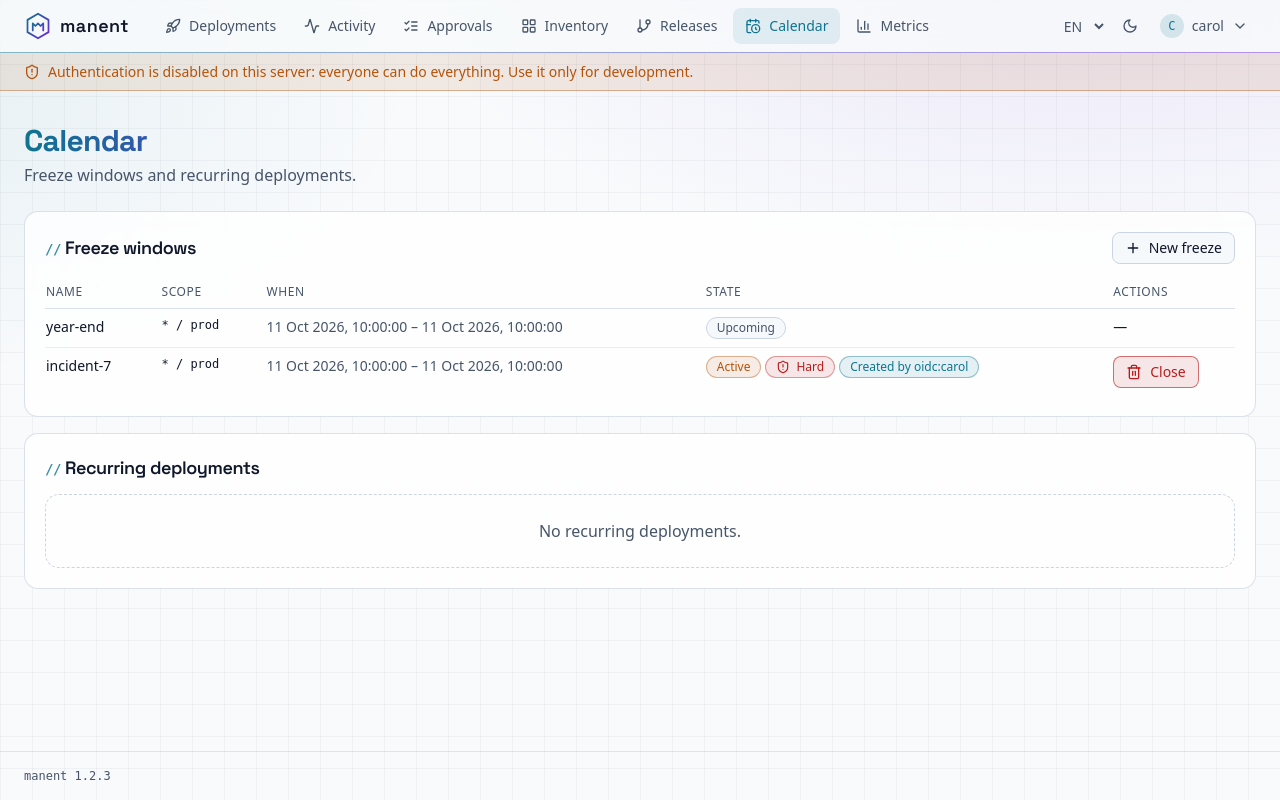
Test: governance › crea un freeze d'emergenza dal calendario
Expected: the number of buttons "Close" is 1, [1113, 356, 1199, 388]
Expected: the text "Hard" is shown, [766, 356, 835, 378]
Click the button "New freeze".
click(1173, 248)  # box [1112, 232, 1235, 264]
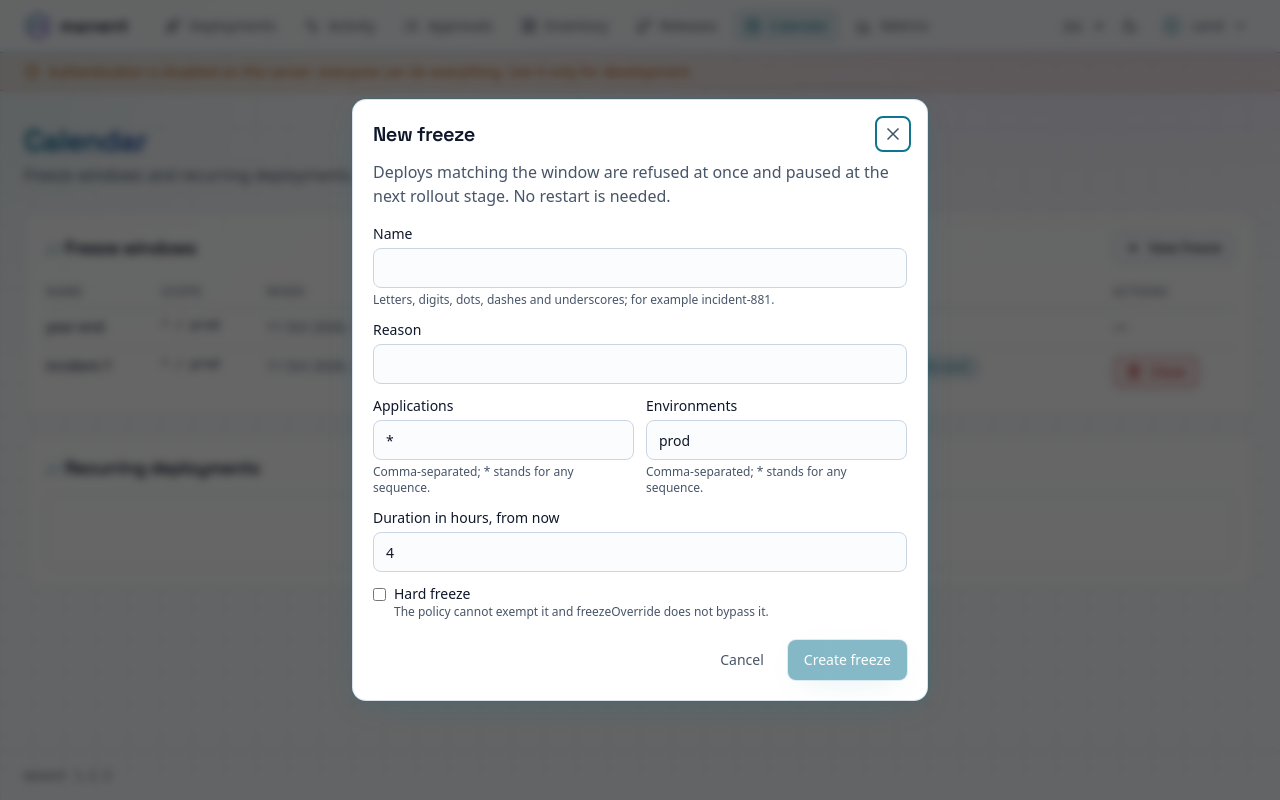
Type "incident-8" into the field labelled "Name".
click(640, 268); type("incident-8")  # box [373, 248, 907, 288]
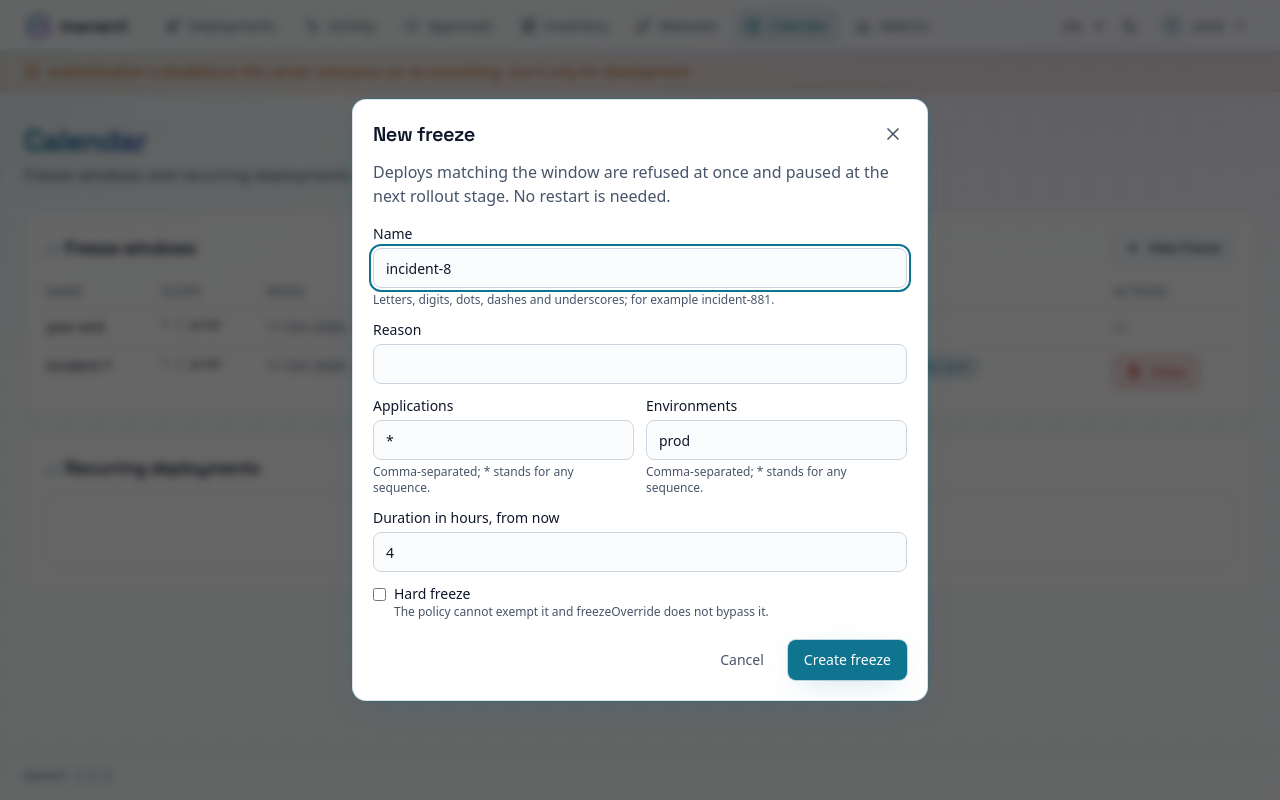
Type "database outage" into the field labelled "Reason".
click(640, 364); type("database outage")  # box [373, 344, 907, 384]
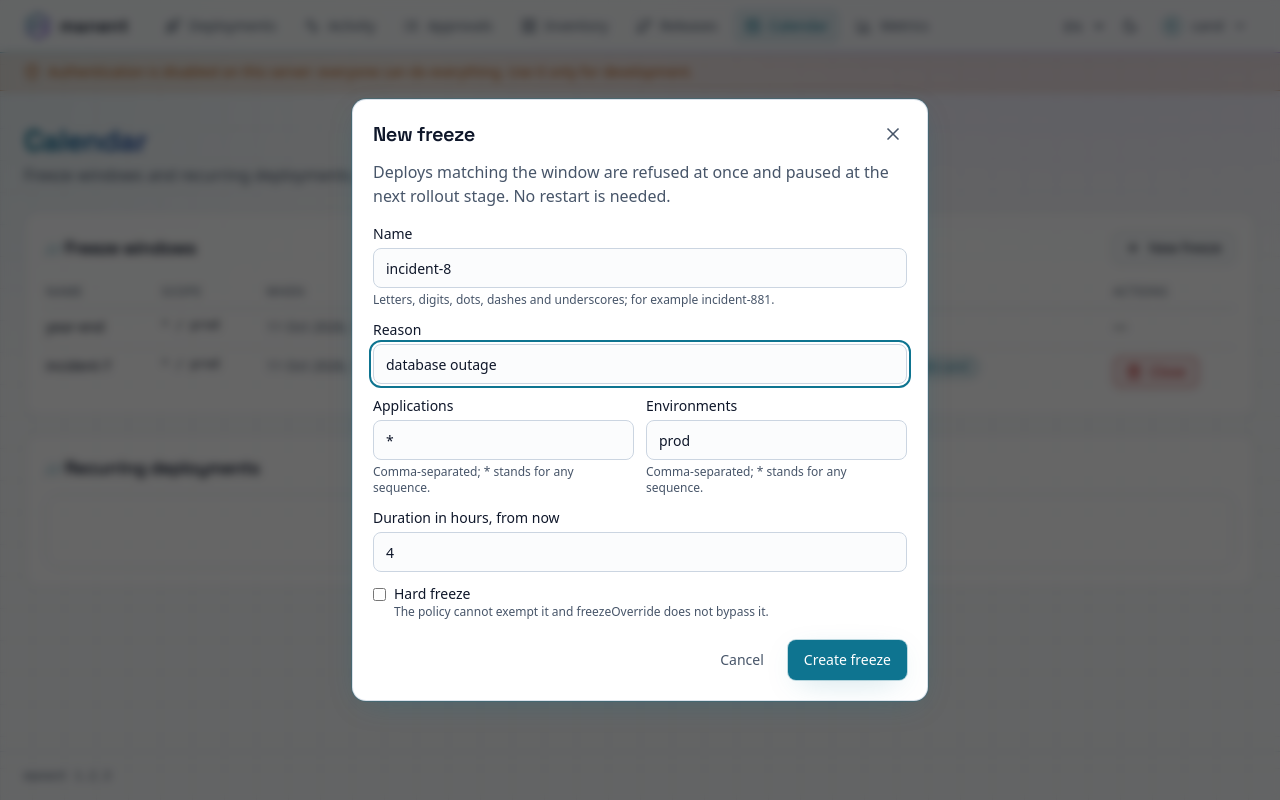
Click the checkbox labelled "Hard freeze".
click(380, 594)  # box [373, 588, 386, 601]
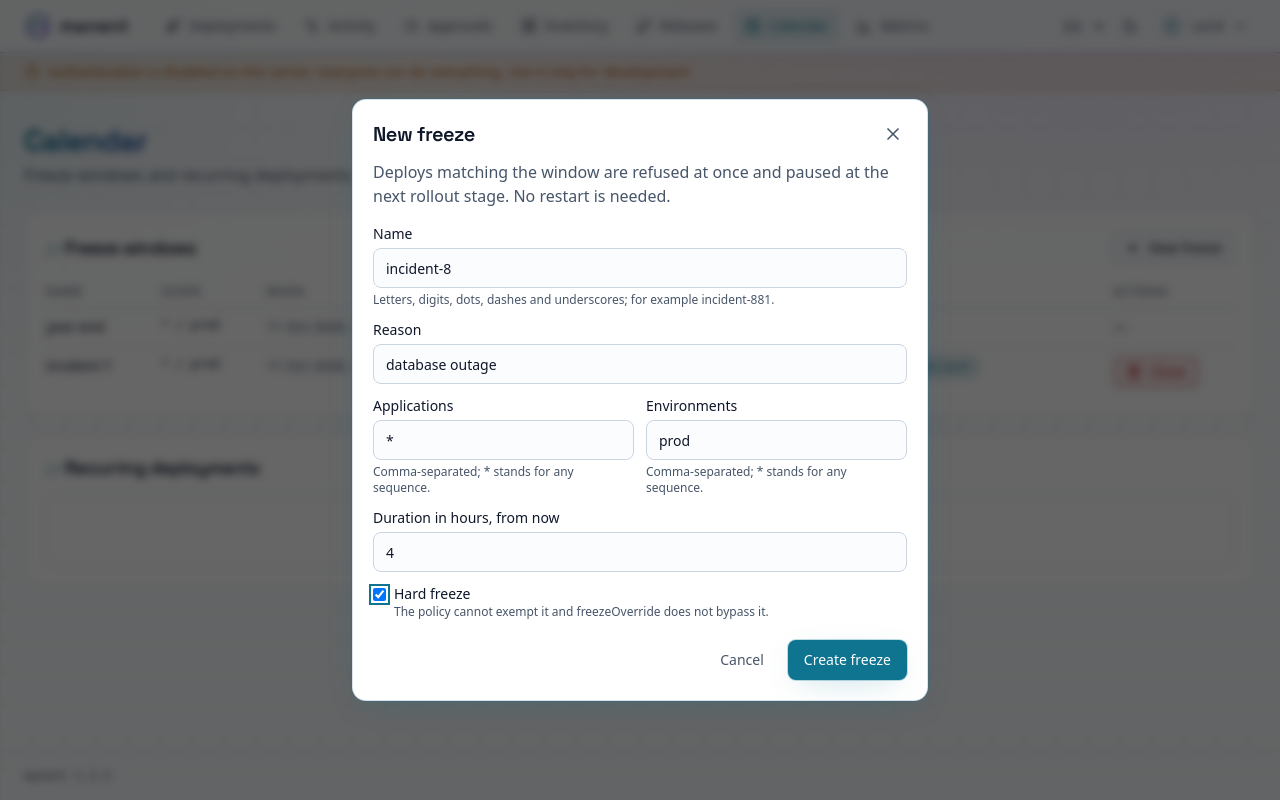
Click the button "Create freeze".
click(847, 660)  # box [788, 640, 907, 680]
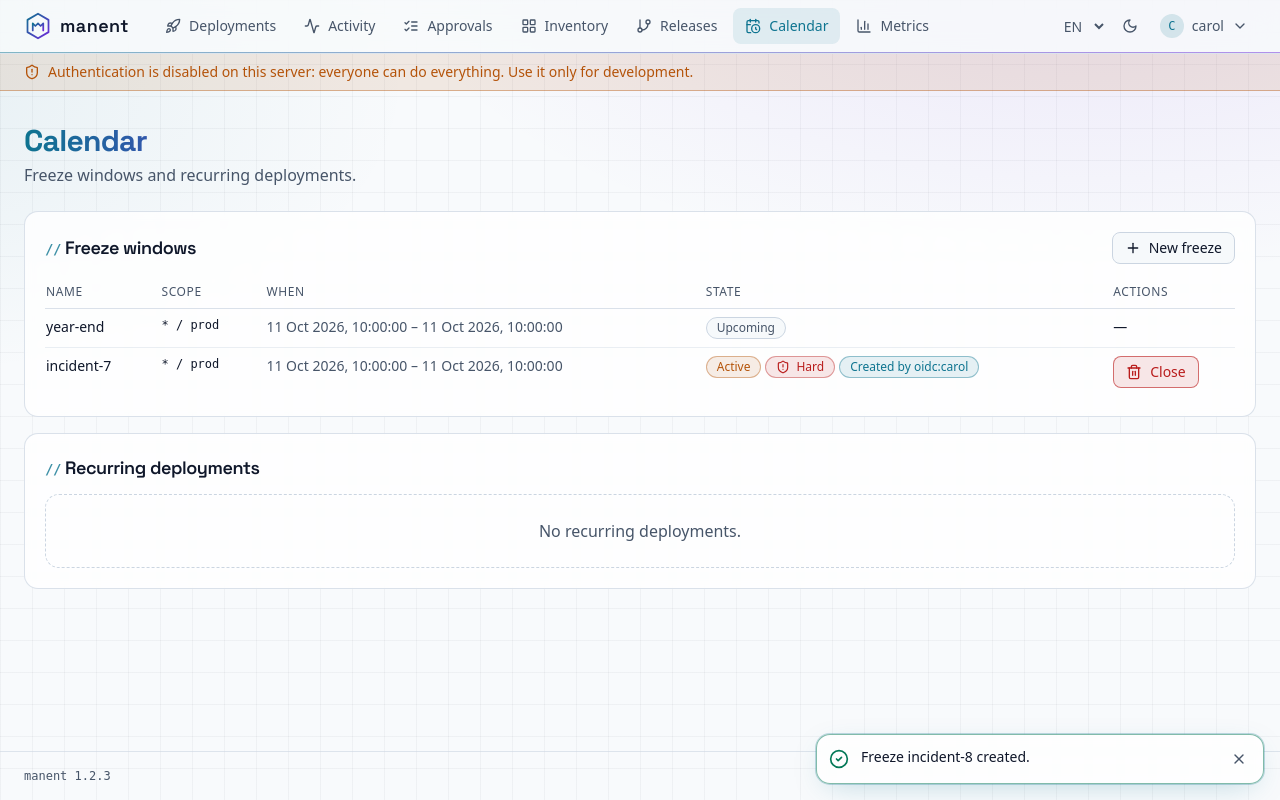
Result: the text "Freeze incident-8 created." is shown at [861, 747, 1030, 766]
